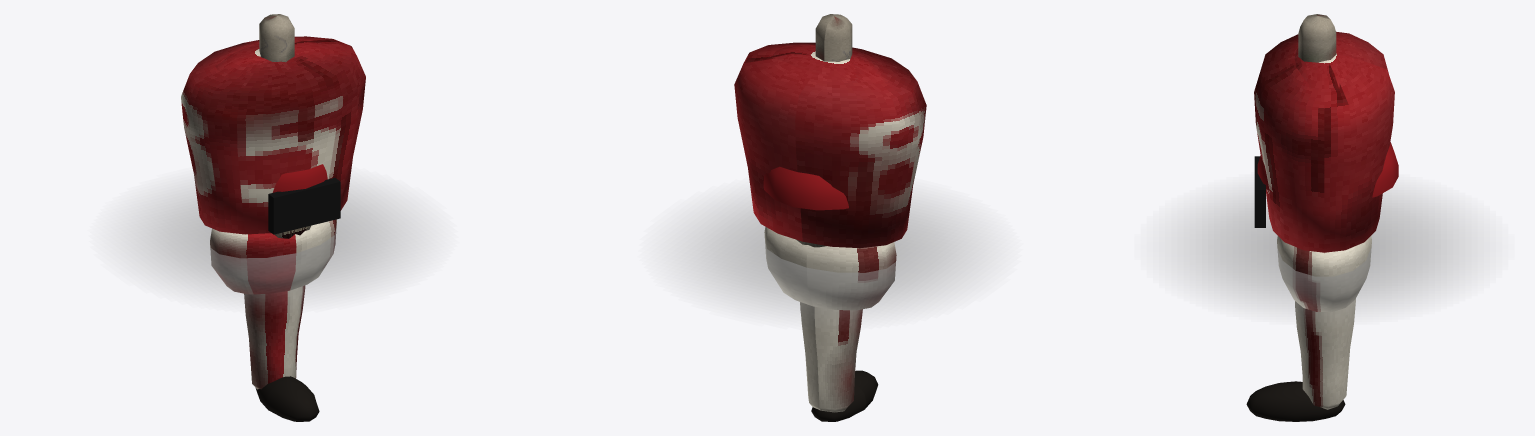
3 views of the same model, side by side, from view 1: azimuth 30°, elevation 25°; view 2: azimuth 150°, elevation 25°; view 3: azimuth 270°, elevation 25° (orthographic). The views are drawn at different scales.
Parts seen in each view (by area): view 1: spine__a__3, root__x__11, core__x__0, legL1__x__12, head__ha__6, legL2__x__14, spine__x__1, spine__x__2, head__ha__5; view 2: spine__a__3, root__x__11, core__x__0, legL1__x__12, head__ha__5, spine__x__1, spine__x__2, legL2__x__14; view 3: root__x__11, spine__a__3, core__x__0, legL1__x__12, legL2__x__14, spine__x__1, spine__x__2, head__ha__5, head__ha__6.
Part boxes in pixels (x1,y1,x2,y2): spine__a__3: [181, 36, 365, 234]; root__x__11: [114, 178, 432, 303]; core__x__0: [210, 219, 336, 294]; legL1__x__12: [244, 285, 305, 389]; head__ha__6: [268, 177, 340, 234]; legL2__x__14: [255, 376, 319, 421]; spine__x__1: [215, 39, 331, 76]; spine__x__2: [259, 14, 294, 62]; head__ha__5: [272, 164, 327, 192]; spine__a__3: [734, 42, 926, 248]; root__x__11: [665, 190, 995, 319]; core__x__0: [764, 227, 896, 310]; legL1__x__12: [800, 302, 862, 412]; head__ha__5: [763, 166, 848, 210]; spine__x__1: [770, 45, 890, 83]; spine__x__2: [815, 14, 852, 61]; legL2__x__14: [811, 370, 878, 421]; root__x__11: [1159, 185, 1489, 316]; spine__a__3: [1254, 31, 1394, 252]; core__x__0: [1277, 236, 1371, 311]; legL1__x__12: [1295, 298, 1355, 409]; legL2__x__14: [1246, 381, 1345, 421]; spine__x__1: [1294, 37, 1354, 90]; spine__x__2: [1298, 14, 1336, 62]; head__ha__5: [1257, 142, 1398, 197]; head__ha__6: [1254, 156, 1265, 227].
Bounding box in the file's own units: 1.07 × 1.2 × 1.07.
Materials: 8 (5 with a texture image).
